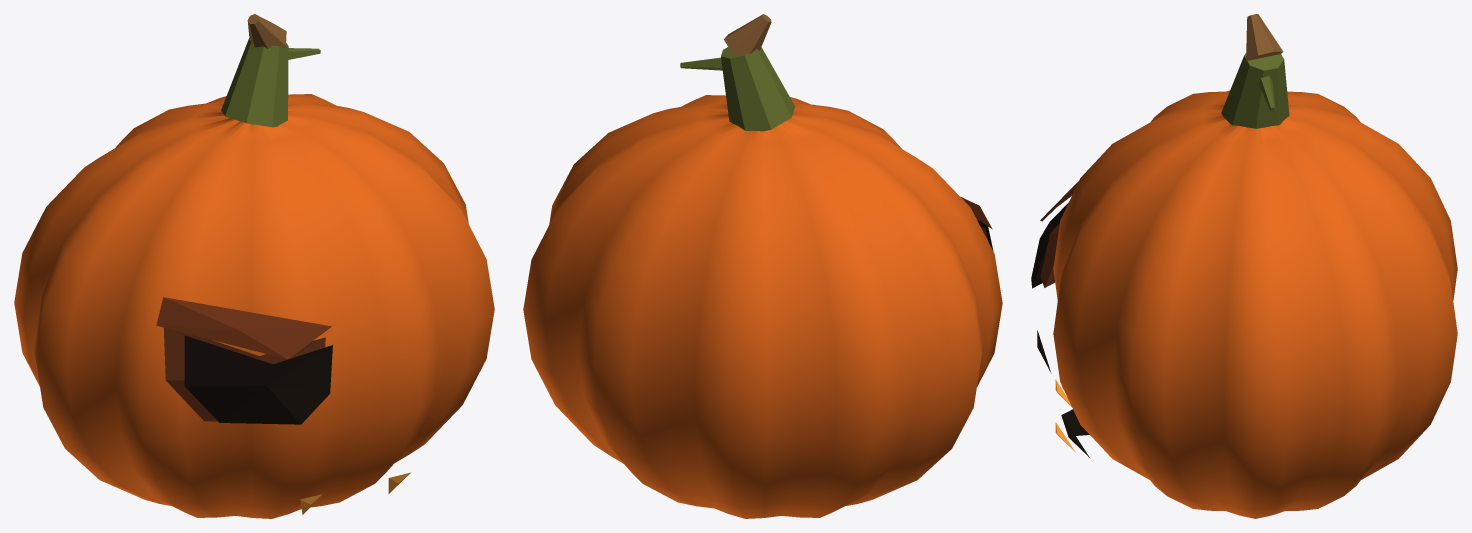
File: head.obj
3 renders of one model, left to right at view 1: azimuth 30°, elevation 25°; view 2: azimuth 150°, elevation 25°; view 3: azimuth 270°, elevation 25°, orthographic.
Visible parts, largest first — view 1: Pumpkin_HEAD_fluted_shell, Dark_eye_socket_L, Raised_angry_brow_L, Stem_trunk, Carved_eye_rim_L, Stem_bent_top; view 2: Pumpkin_HEAD_fluted_shell, Stem_trunk, Stem_bent_top; view 3: Pumpkin_HEAD_fluted_shell, Stem_trunk, Stem_bent_top, Dark_eye_socket_L, Carved_eye_rim_L, Jagged_pumpkin_scowl.
Boxes of the visible parts, x1,y1,x2,y2 form: Pumpkin_HEAD_fluted_shell: (14,94,494,518); Dark_eye_socket_L: (184,335,332,424); Raised_angry_brow_L: (156,297,331,359); Stem_trunk: (221,38,288,127); Carved_eye_rim_L: (163,327,325,421); Stem_bent_top: (247,14,286,48); Pumpkin_HEAD_fluted_shell: (523,95,1002,518); Stem_trunk: (721,47,795,131); Stem_bent_top: (724,14,771,56); Pumpkin_HEAD_fluted_shell: (1053,90,1457,518); Stem_trunk: (1221,53,1289,128); Stem_bent_top: (1246,14,1283,61); Dark_eye_socket_L: (1031,203,1068,288); Carved_eye_rim_L: (1040,223,1059,287); Jagged_pumpkin_scowl: (1061,387,1089,457).
Bounding box in the file's own units: 1.73 × 1.83 × 1.48.
